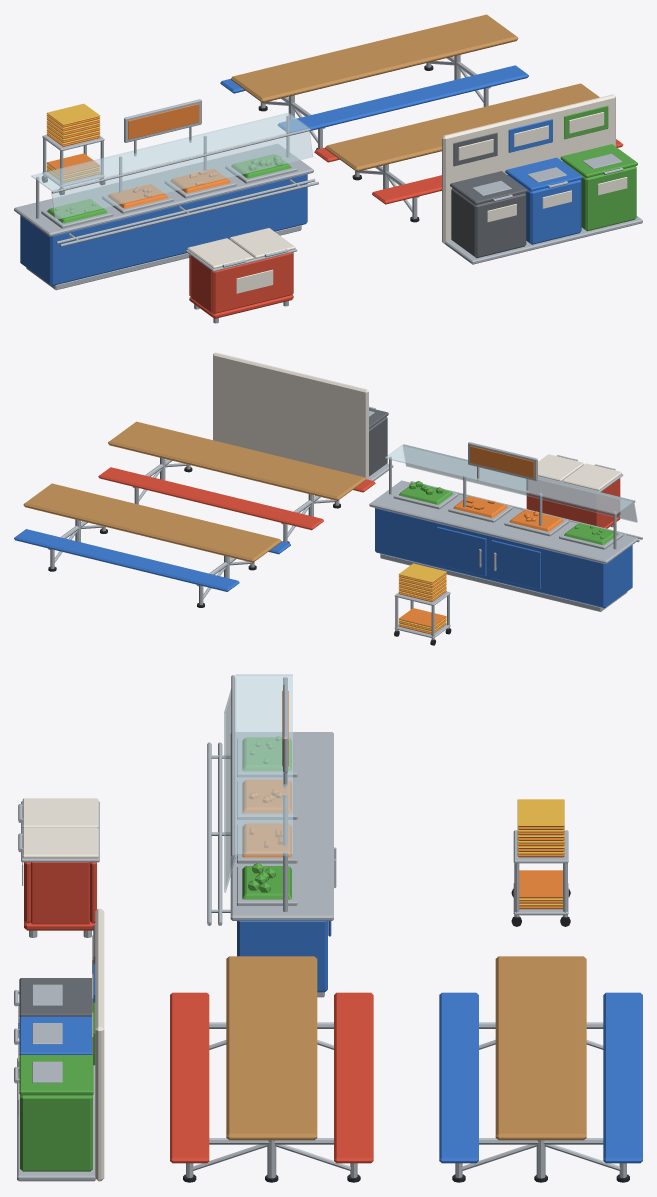
File: school-cafeteria-set.glb
3 renders of one model, top to bottom at view 1: azimuth 30°, elevation 25°; view 2: azimuth 150°, elevation 25°; view 3: azimuth 270°, elevation 25°, orthographic. The views are drawn at different scales.
Parts seen in each view (by area): view 1: ServingCounter_Body, TrashRecycleStation_Body, LunchTable_Blue_Body, LunchTable_Red_Body, MilkCooler_Body, TrayStack_Body, Station_Lid_Compost, Station_Lid_Trash, Station_Lid_Recycling, MilkCooler_Lid_L, MilkCooler_Lid_R; view 2: ServingCounter_Body, TrashRecycleStation_Body, LunchTable_Blue_Body, LunchTable_Red_Body, MilkCooler_Body, TrayStack_Body, Counter_Door_L, Counter_Door_R, MilkCooler_Lid_L, MilkCooler_Lid_R; view 3: LunchTable_Blue_Body, LunchTable_Red_Body, ServingCounter_Body, TrashRecycleStation_Body, TrayStack_Body, MilkCooler_Body, Station_Lid_Compost, Station_Lid_Recycling, Station_Lid_Trash, MilkCooler_Lid_R, MilkCooler_Lid_L.
Part boxes in pixels (x1,y1,x2,y2): ServingCounter_Body: [14, 99, 318, 290]; TrashRecycleStation_Body: [442, 94, 642, 264]; LunchTable_Blue_Body: [220, 14, 528, 149]; LunchTable_Red_Body: [314, 83, 623, 222]; MilkCooler_Body: [185, 239, 297, 323]; TrayStack_Body: [42, 103, 105, 194]; Station_Lid_Compost: [560, 144, 637, 177]; Station_Lid_Trash: [450, 171, 527, 204]; Station_Lid_Recycling: [505, 157, 582, 191]; MilkCooler_Lid_L: [187, 238, 253, 268]; MilkCooler_Lid_R: [229, 228, 295, 258]; ServingCounter_Body: [369, 442, 642, 611]; TrashRecycleStation_Body: [213, 352, 393, 480]; LunchTable_Blue_Body: [14, 483, 290, 607]; LunchTable_Red_Body: [98, 421, 375, 542]; MilkCooler_Body: [526, 465, 623, 528]; TrayStack_Body: [394, 563, 451, 645]; Counter_Door_L: [491, 540, 540, 589]; Counter_Door_R: [437, 526, 486, 576]; MilkCooler_Lid_L: [562, 463, 621, 490]; MilkCooler_Lid_R: [538, 454, 583, 481]; LunchTable_Blue_Body: [439, 956, 642, 1182]; LunchTable_Red_Body: [170, 956, 373, 1182]; ServingCounter_Body: [207, 674, 333, 997]; TrashRecycleStation_Body: [17, 908, 104, 1181]; TrayStack_Body: [511, 799, 570, 926]; MilkCooler_Body: [21, 801, 99, 937]; Station_Lid_Compost: [14, 1055, 93, 1095]; Station_Lid_Recycling: [14, 1016, 93, 1055]; Station_Lid_Trash: [14, 978, 91, 1016]; MilkCooler_Lid_R: [18, 827, 98, 858]; MilkCooler_Lid_L: [18, 798, 98, 827].
Bounding box in the file's own units: 30.56 × 7.3 × 20.69.
